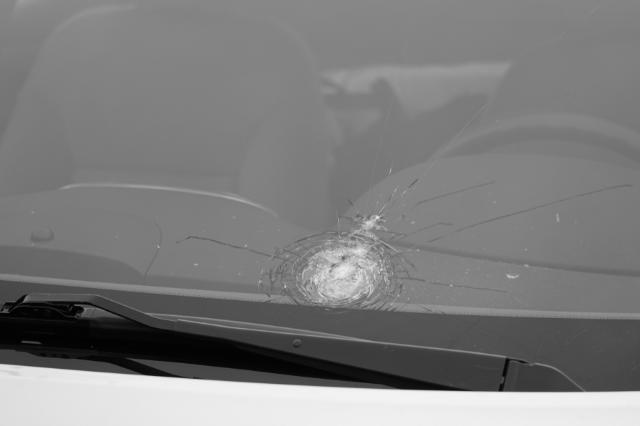Windshield: (29, 5, 599, 376)
